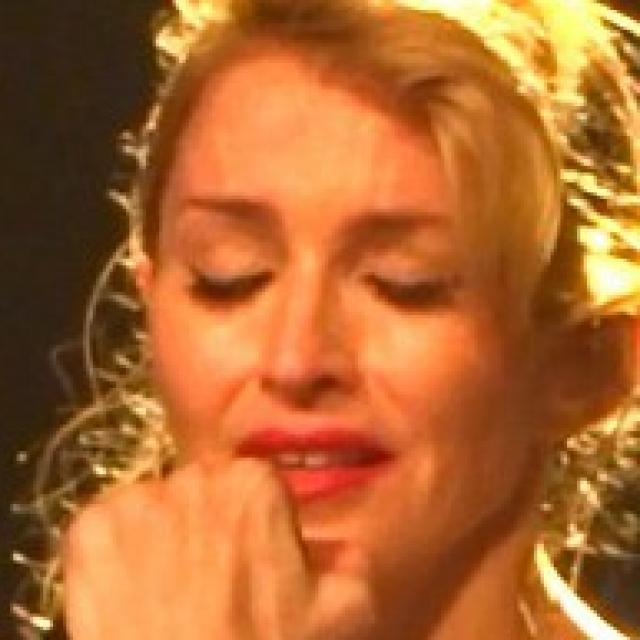Depress: (143, 41, 542, 630)
